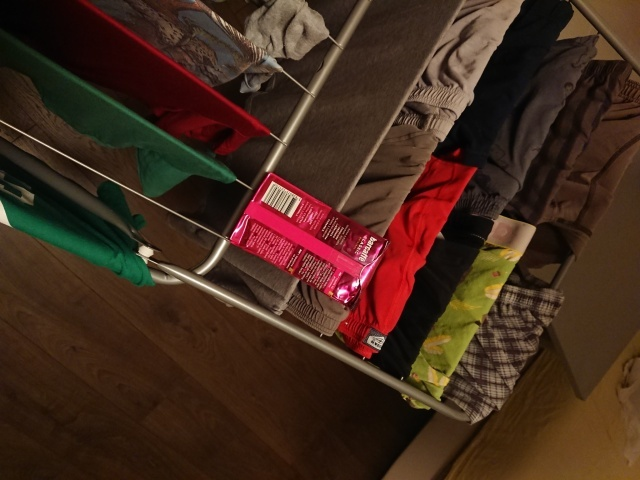Barcaffe Classic Original 225g: (224, 169, 393, 314)
